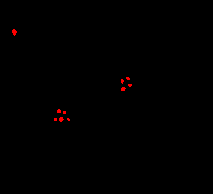Target: (12, 29, 17, 36), (59, 117, 64, 122), (121, 87, 126, 91), (57, 109, 61, 113), (121, 79, 124, 84), (126, 77, 130, 80), (128, 84, 132, 87), (63, 111, 66, 114), (54, 118, 57, 121), (67, 118, 70, 121)
